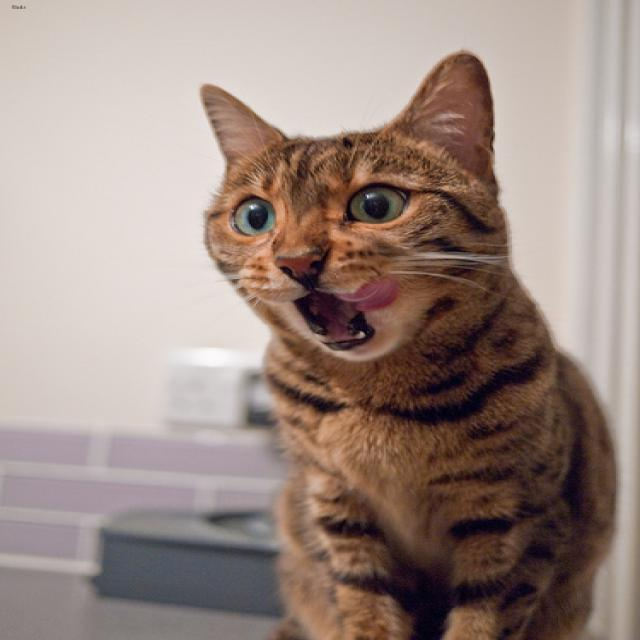Bengal: (195, 48, 514, 378)
